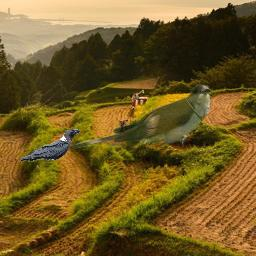Crow: (19, 129, 80, 162)
Cuckoo: (58, 83, 211, 153)
